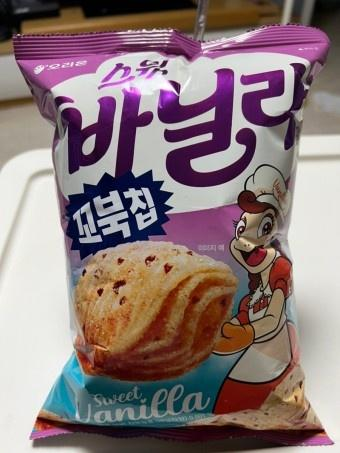snack: (12, 22, 336, 448)
